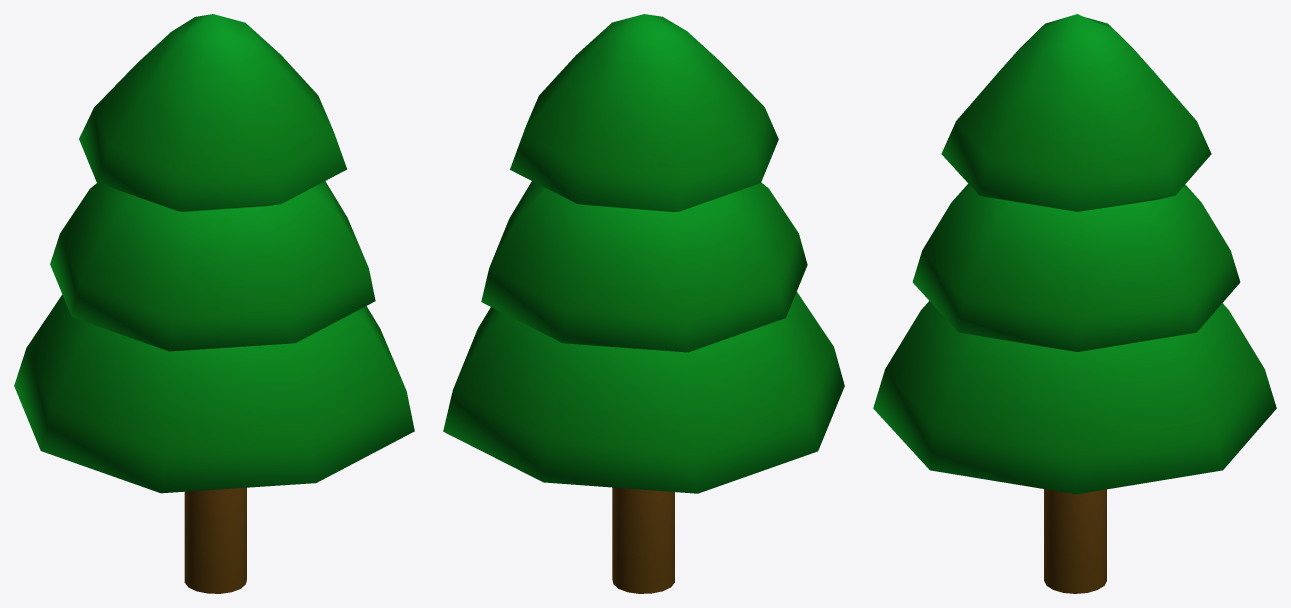
The model's file is Pine_3.fbx.
3 views of the same model, side by side, from view 1: azimuth 30°, elevation 25°; view 2: azimuth 150°, elevation 25°; view 3: azimuth 270°, elevation 25° (orthographic).
Visible parts, largest first — view 1: Pine_3; view 2: Pine_3; view 3: Pine_3.
Boxes of the visible parts, x1,y1,x2,y2 form: Pine_3: (14, 14, 414, 593); Pine_3: (443, 14, 844, 593); Pine_3: (873, 14, 1276, 593).
Size of the model in its own units: 0.9941 by 1.54 by 0.9941.
